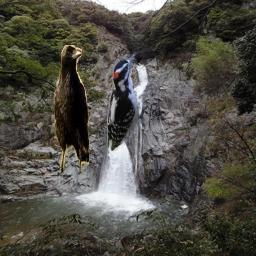Crow: (54, 45, 89, 175)
Woodpecker: (107, 52, 147, 151)
